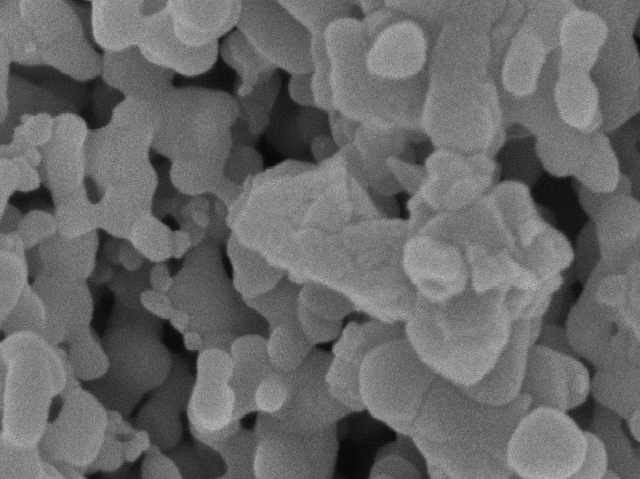nano: (364, 18, 430, 81)
